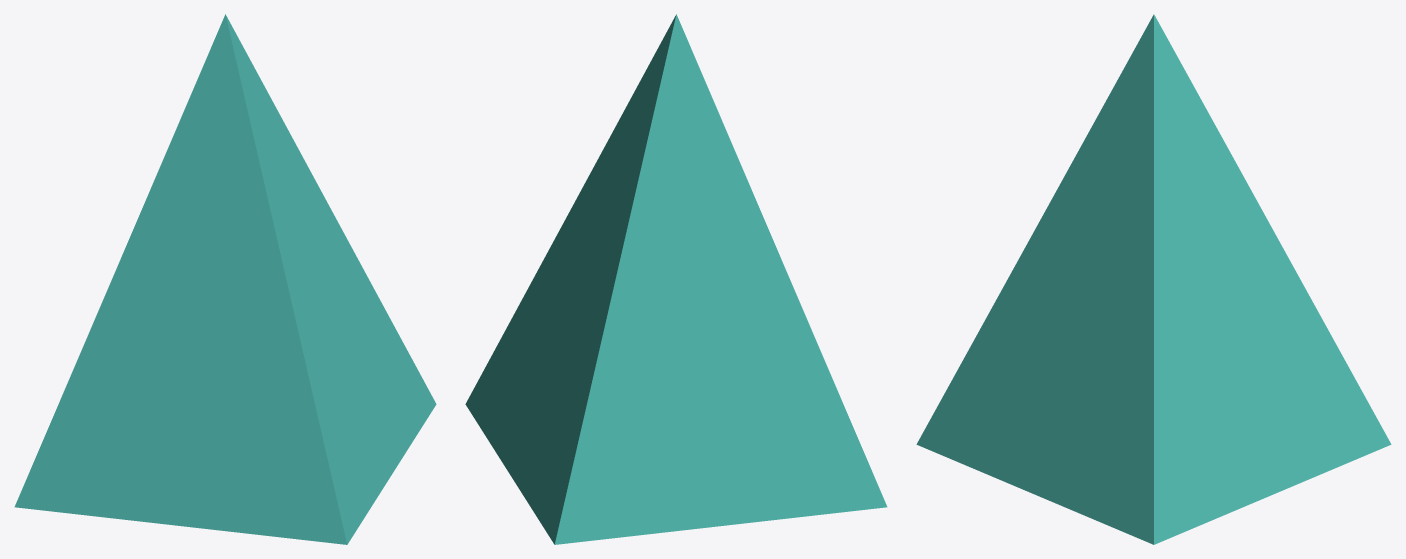
The model's file is piramid.glb.
The picture shows the model from 3 angles, left to right: view 1: azimuth 30°, elevation 25°; view 2: azimuth 150°, elevation 25°; view 3: azimuth 270°, elevation 25°; orthographic projection. The views are drawn at different scales.
Visible parts, largest first — view 1: Cone; view 2: Cone; view 3: Cone.
Part boxes in pixels (bbox=[...]): Cone: bbox=[14, 14, 436, 544]; Cone: bbox=[465, 14, 887, 544]; Cone: bbox=[916, 14, 1391, 544].
Size of the model in its own units: 6 by 6 by 6.
